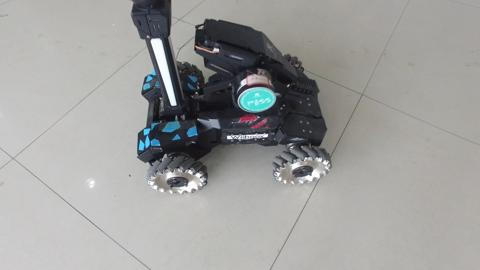chariot: (95, 20, 329, 198)
